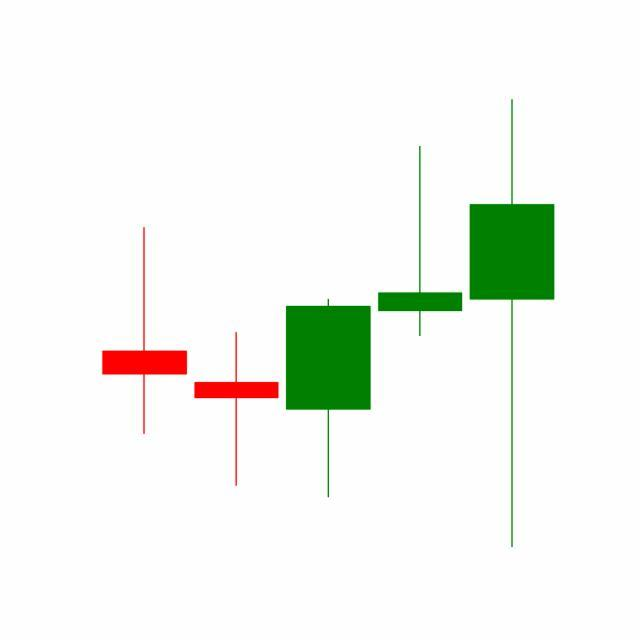Three Outside Up-Down: (190, 143, 467, 502)
